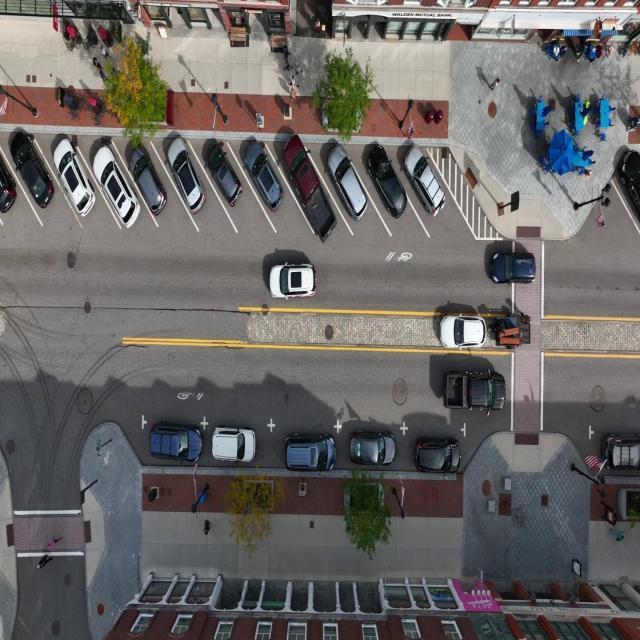Car: (92, 144, 142, 228), (9, 128, 55, 214), (51, 136, 97, 221), (326, 140, 369, 222), (402, 142, 447, 218), (244, 138, 286, 215), (366, 142, 408, 218), (168, 134, 206, 217), (129, 143, 168, 220), (206, 139, 243, 209), (149, 422, 204, 463), (283, 432, 336, 472), (437, 311, 487, 353), (267, 259, 318, 300), (603, 430, 640, 478), (413, 438, 462, 474), (212, 427, 257, 466), (349, 431, 397, 467), (488, 250, 537, 285)
Truck: (444, 366, 507, 419)
